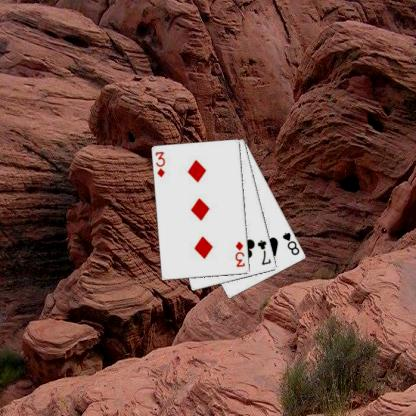3D: (153, 149, 166, 179), (233, 239, 246, 268)
7C: (255, 237, 272, 266)
8S: (280, 230, 301, 257)
